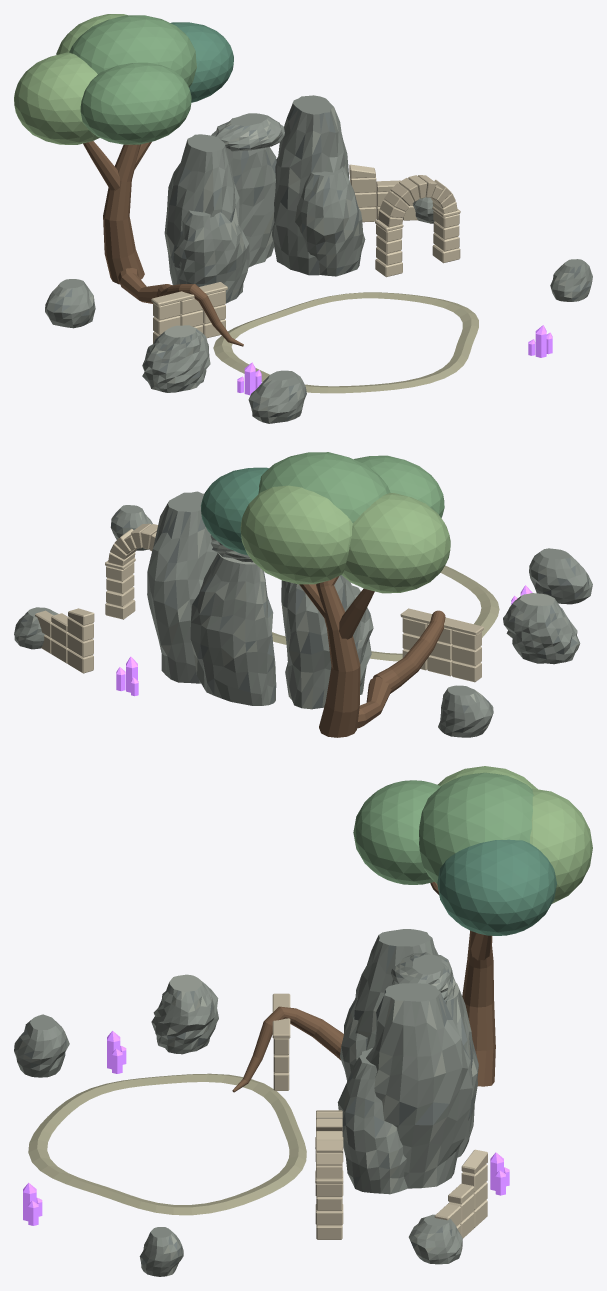
The model's file is Overgrown_Oasis_Ruin_Blockout_v1.glb.
3 renders of one model, top to bottom at view 1: azimuth 30°, elevation 25°; view 2: azimuth 150°, elevation 25°; view 3: azimuth 270°, elevation 25°, orthographic. The views are drawn at different scales.
Parts seen in each view (by area): view 1: Cliff_Waterfall_A, Tree_Landmark_Blockout, Ruin_Arch_A, PondEdge_Blockout, Rock_Large_A, Ruin_Wall_A, Rock_Large_D, Rock_Large_B, Ruin_BrokenWall_A, Rock_Large_C, Root_Large_A, Root_Tree_Base_Blockout (+2 smaller); view 2: Tree_Landmark_Blockout, Cliff_Waterfall_A, Rock_Large_A, Ruin_Wall_A, Ruin_Arch_A, Ruin_BrokenWall_A, Rock_Large_D, Rock_Large_B, Root_Large_A, PondEdge_Blockout, Rock_Large_E, Root_Tree_Base_Blockout (+2 smaller); view 3: Tree_Landmark_Blockout, Cliff_Waterfall_A, PondEdge_Blockout, Rock_Large_A, Ruin_Arch_A, Rock_Large_D, Ruin_BrokenWall_A, Root_Large_A, Rock_Large_E, Rock_Large_C, Ruin_Wall_A, Crystal_Blockout_C (+2 smaller).
Part boxes in pixels (x1=…): Cliff_Waterfall_A: x1=164, y1=95, x2=365, y2=303; Tree_Landmark_Blockout: x1=14, y1=14, x2=233, y2=284; Ruin_Arch_A: x1=375, y1=175, x2=460, y2=277; PondEdge_Blockout: x1=213, y1=292, x2=478, y2=393; Rock_Large_A: x1=142, y1=325, x2=210, y2=392; Ruin_Wall_A: x1=151, y1=282, x2=227, y2=343; Rock_Large_D: x1=248, y1=370, x2=306, y2=423; Rock_Large_B: x1=45, y1=279, x2=95, y2=328; Ruin_BrokenWall_A: x1=349, y1=164, x2=417, y2=222; Rock_Large_C: x1=550, y1=259, x2=592, y2=301; Root_Large_A: x1=156, y1=284, x2=243, y2=346; Root_Tree_Base_Blockout: x1=118, y1=268, x2=167, y2=303; Tree_Landmark_Blockout: x1=201, y1=452, x2=450, y2=737; Cliff_Waterfall_A: x1=147, y1=491, x2=373, y2=709; Rock_Large_A: x1=503, y1=593, x2=580, y2=664; Ruin_Wall_A: x1=400, y1=608, x2=483, y2=682; Ruin_Arch_A: x1=105, y1=523, x2=157, y2=619; Ruin_BrokenWall_A: x1=35, y1=608, x2=94, y2=673; Rock_Large_D: x1=529, y1=548, x2=592, y2=604; Rock_Large_B: x1=438, y1=685, x2=493, y2=737; Root_Large_A: x1=373, y1=610, x2=445, y2=693; PondEdge_Blockout: x1=272, y1=565, x2=499, y2=661; Rock_Large_E: x1=14, y1=607, x2=58, y2=649; Root_Tree_Base_Blockout: x1=357, y1=676, x2=391, y2=728; Tree_Landmark_Blockout: x1=353, y1=766, x2=592, y2=1086; Cliff_Waterfall_A: x1=337, y1=929, x2=478, y2=1194; PondEdge_Blockout: x1=28, y1=1073, x2=306, y2=1215; Rock_Large_A: x1=151, y1=974, x2=218, y2=1054; Ruin_Arch_A: x1=315, y1=1110, x2=343, y2=1239; Rock_Large_D: x1=14, y1=1014, x2=69, y2=1077; Ruin_BrokenWall_A: x1=434, y1=1149, x2=487, y2=1238; Root_Large_A: x1=232, y1=1006, x2=343, y2=1092; Rock_Large_E: x1=408, y1=1214, x2=462, y2=1264; Rock_Large_C: x1=139, y1=1227, x2=183, y2=1276; Ruin_Wall_A: x1=272, y1=993, x2=290, y2=1090; Crystal_Blockout_C: x1=490, y1=1152, x2=509, y2=1195.
Size of the model in its own units: 52.16 by 28.36 by 48.32.
